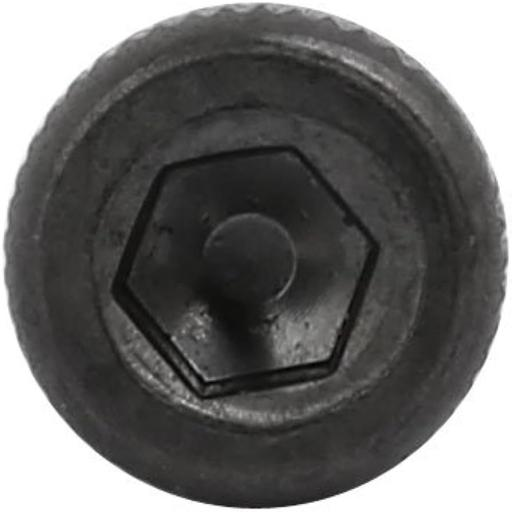Hex-Allen: (7, 8, 501, 505)
